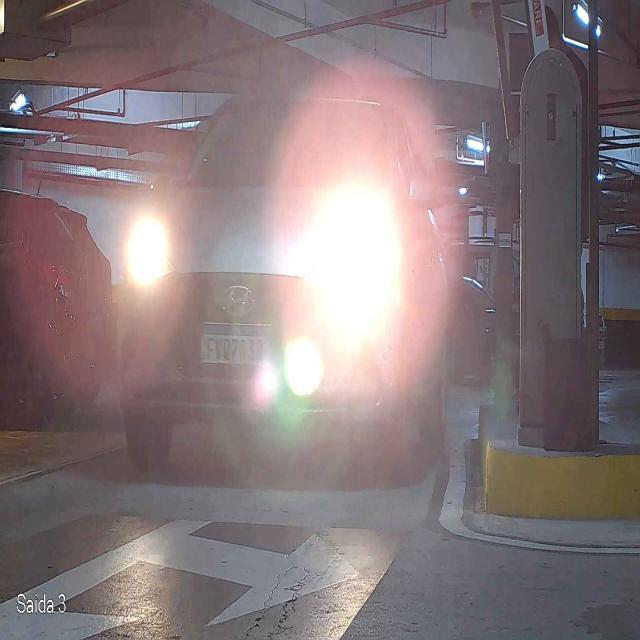mercosul_plate: (198, 324, 275, 366)
